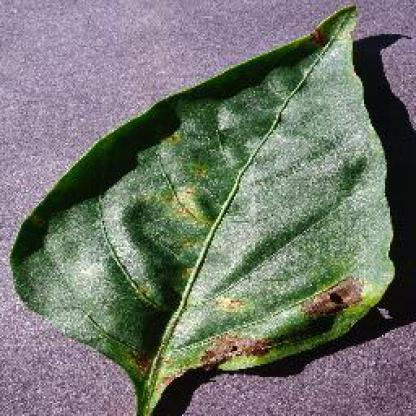bad leaf: (105, 65, 395, 348)
